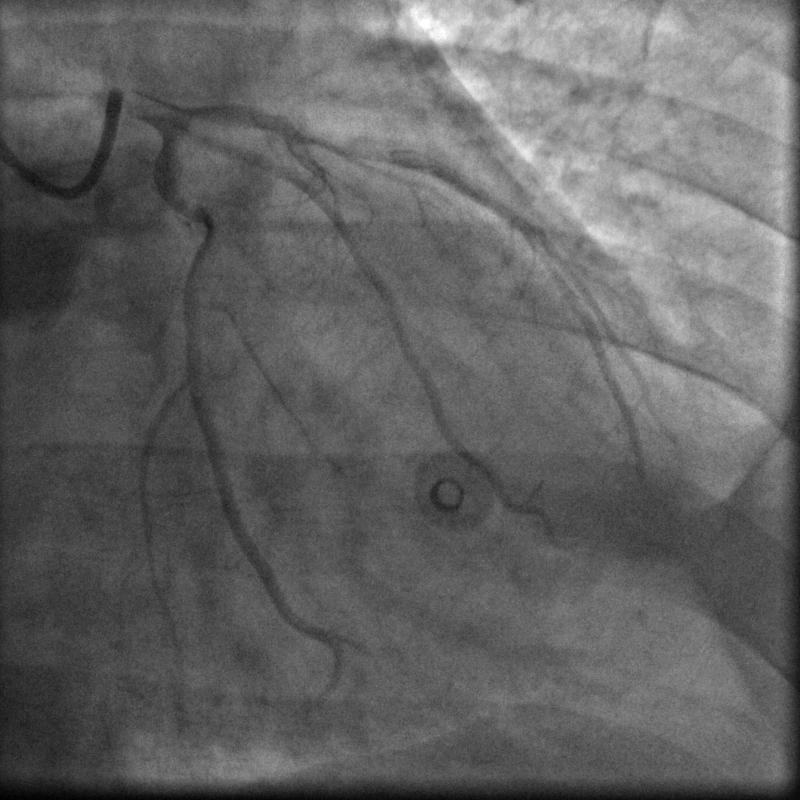Stenosis: (305, 133, 409, 176)
